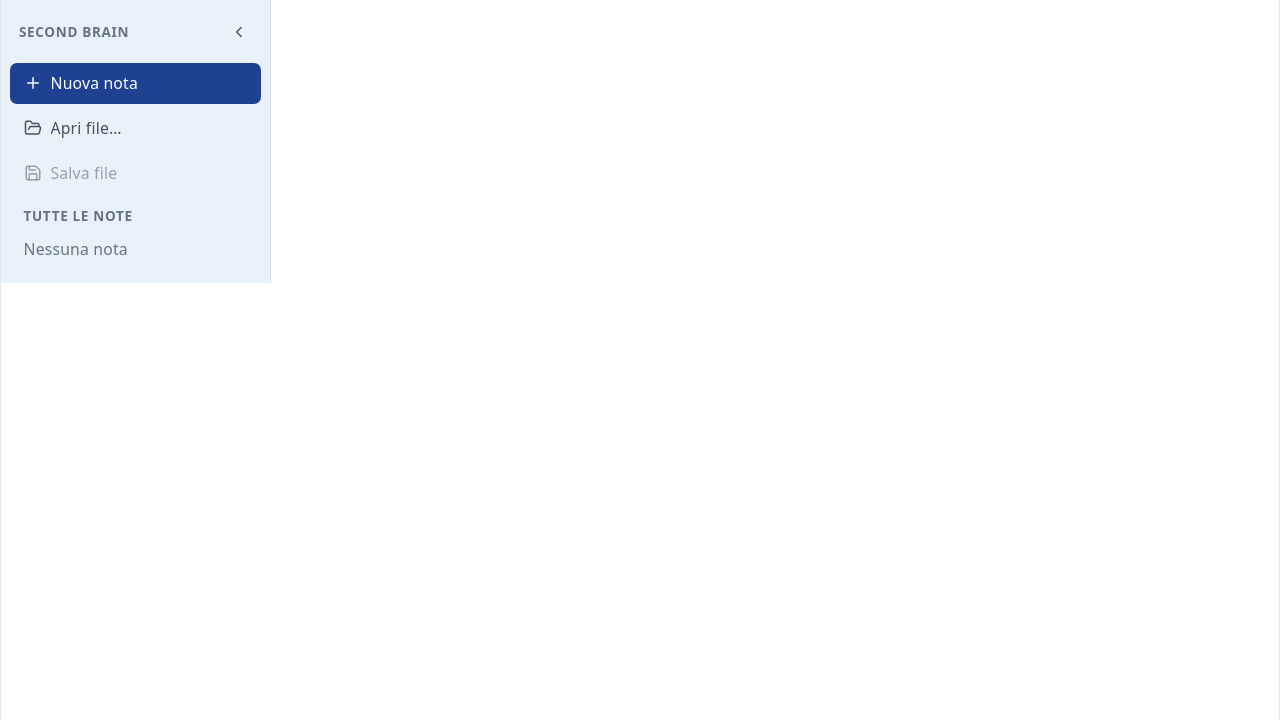
Test: Sidebar — creazione nota › guasto reale (localStorage pieno) → messaggio a video e nessuna nota in piu
The image size is (1280, 720).
Click the button "Nuova nota". click: (136, 83)
box: [10,63,261,104]
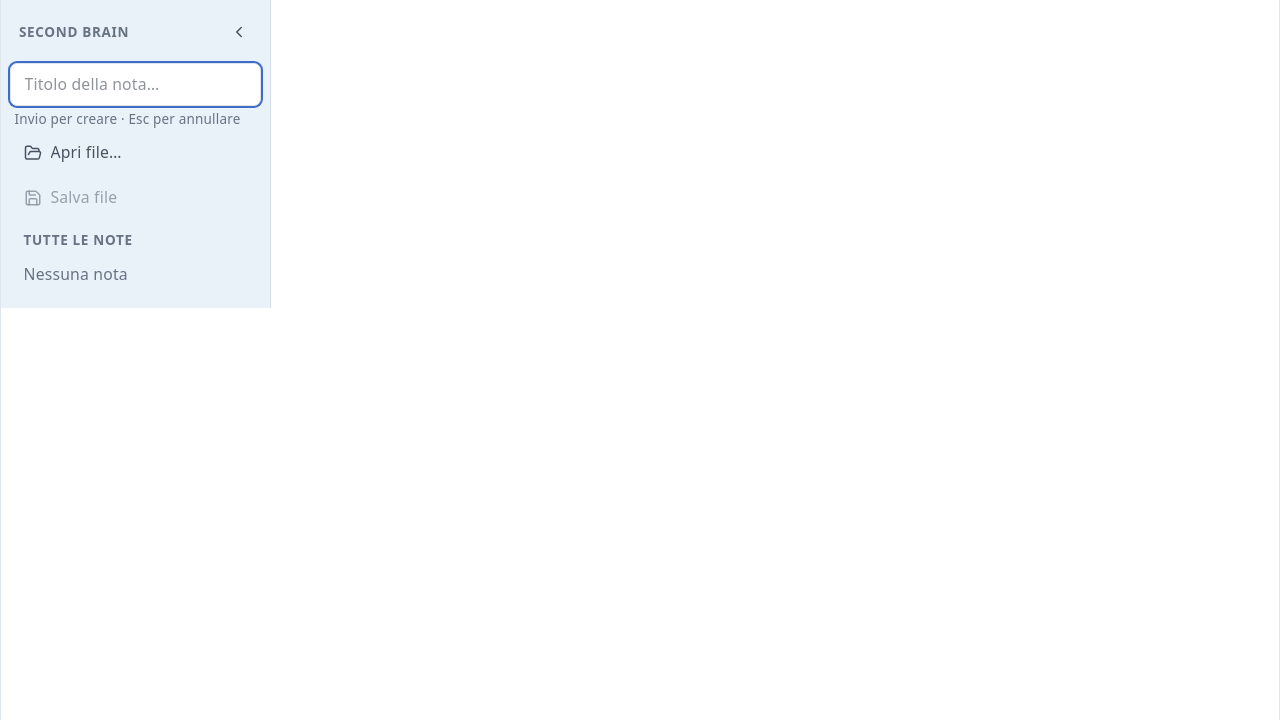
Type "Bozza" into the field named "Titolo della nuova nota". click: (136, 84)
box: [10,63,261,106]
Then press Enter
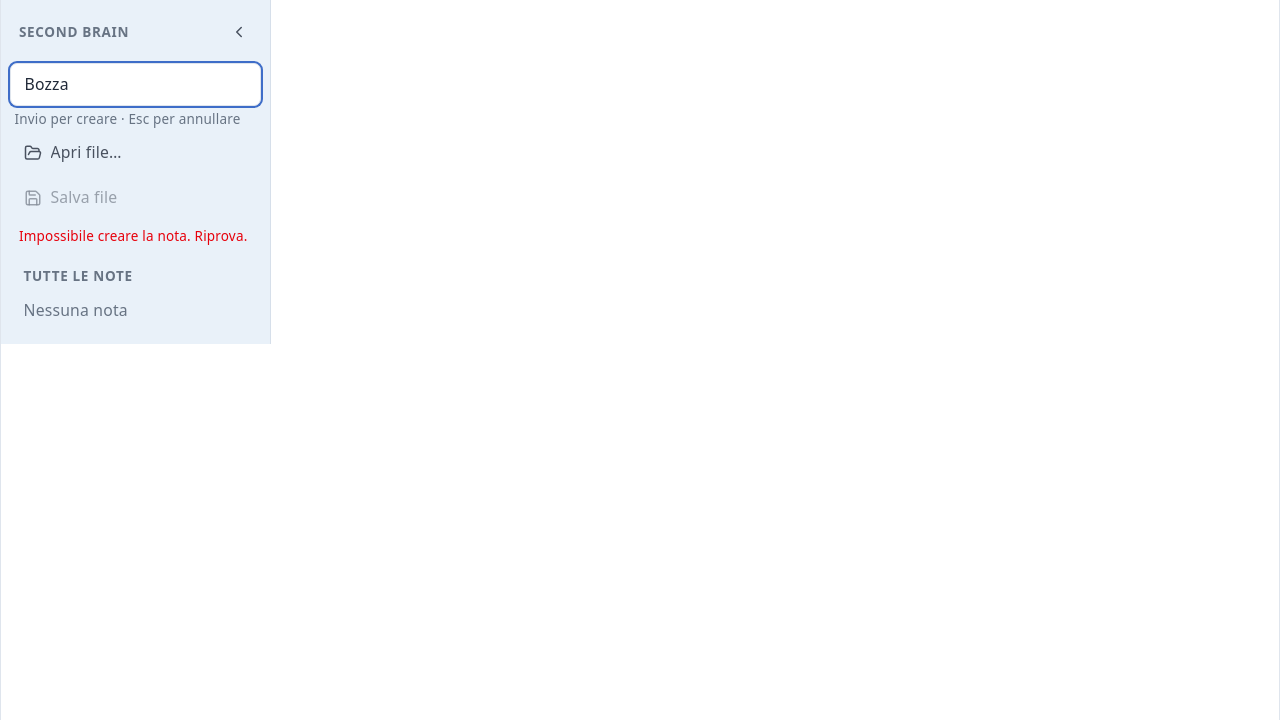
Check: the message shows "Impossibile creare la nota", box [19,227,248,245]
